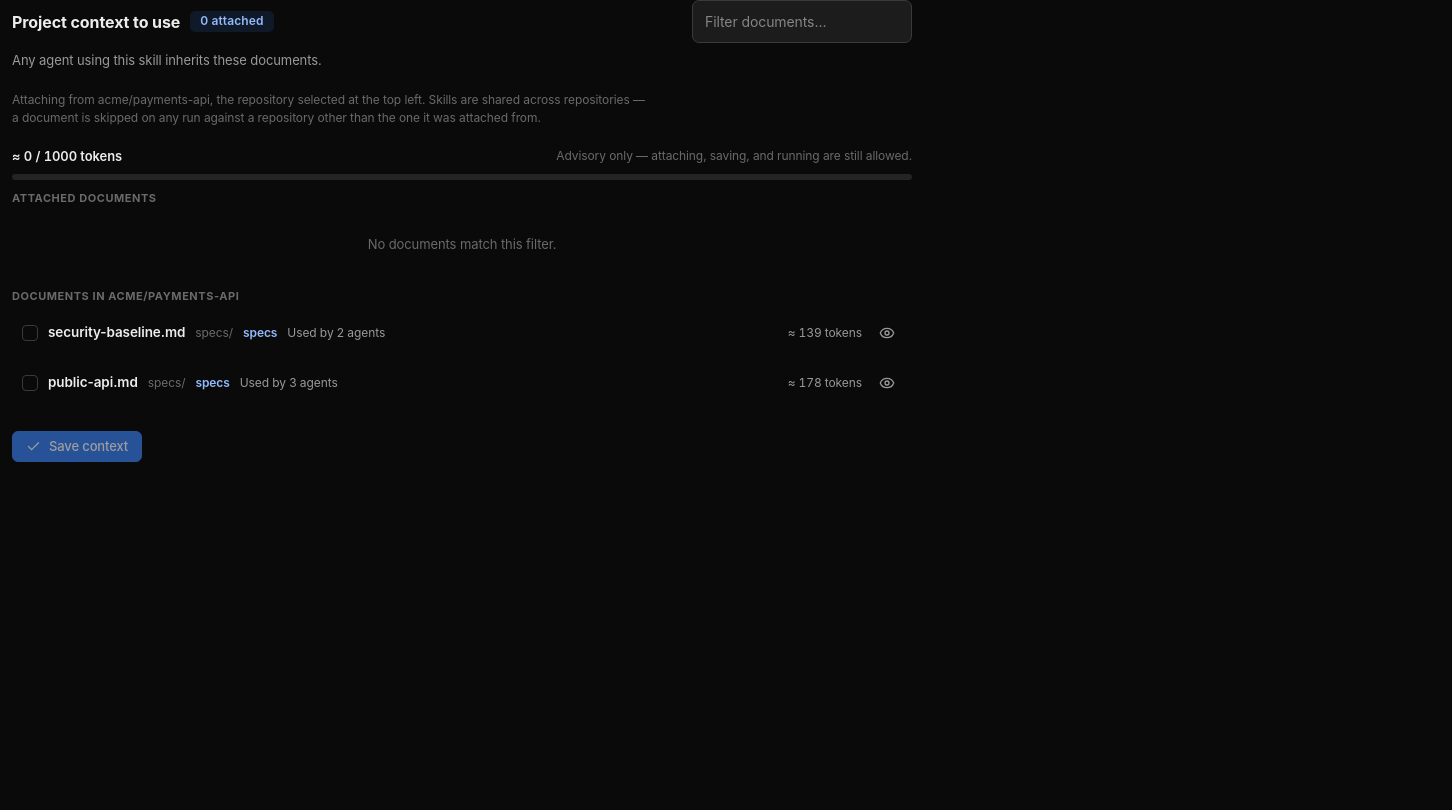
Test: ContextTab › editing the body and toggling a document issues exactly one PATCH carrying both fields (AC-42)
Click the checkbox named "security-baseline.md" at (30, 332), box x1=22 y1=324 x2=38 y2=340
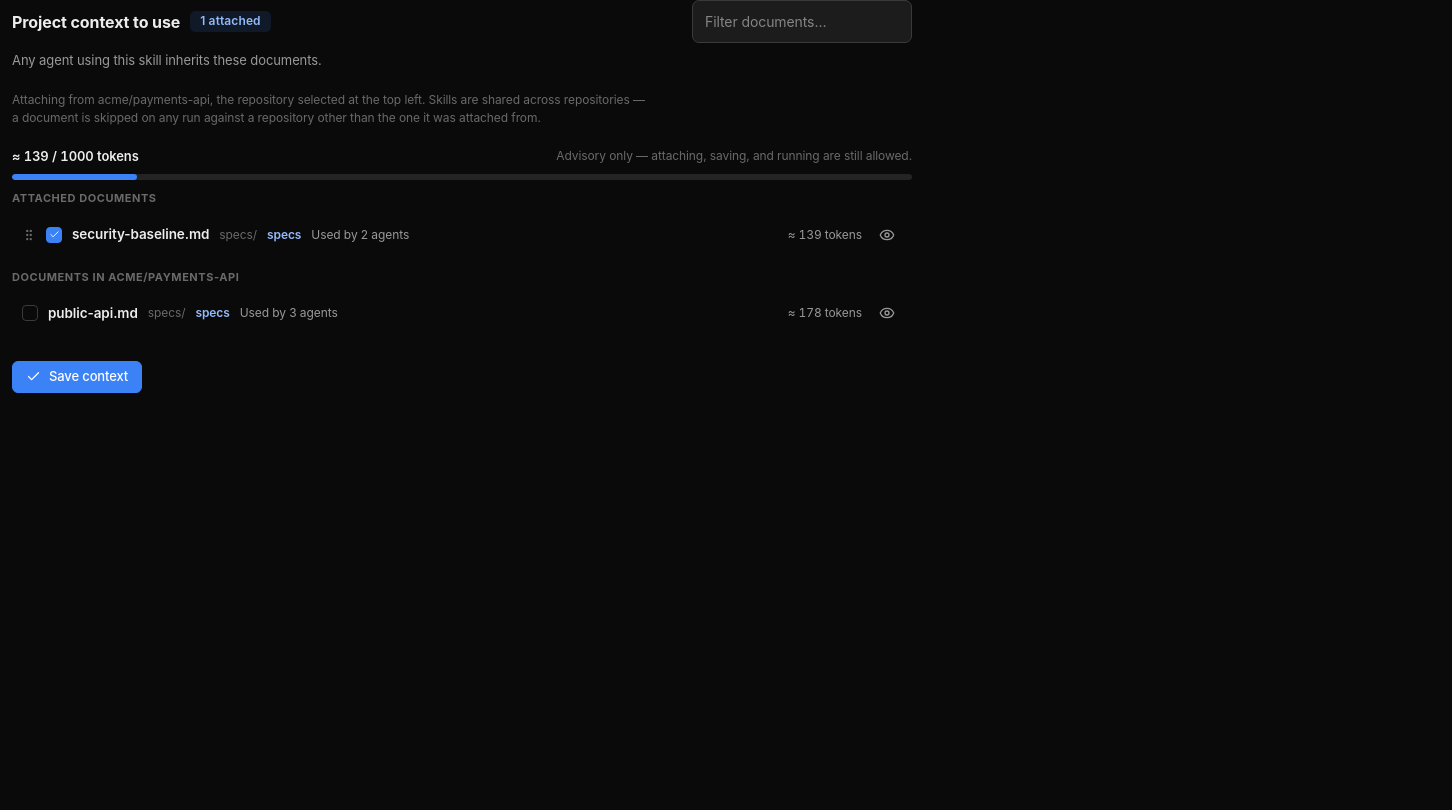
Click the button "Save context" at (77, 377), box x1=12 y1=361 x2=142 y2=393
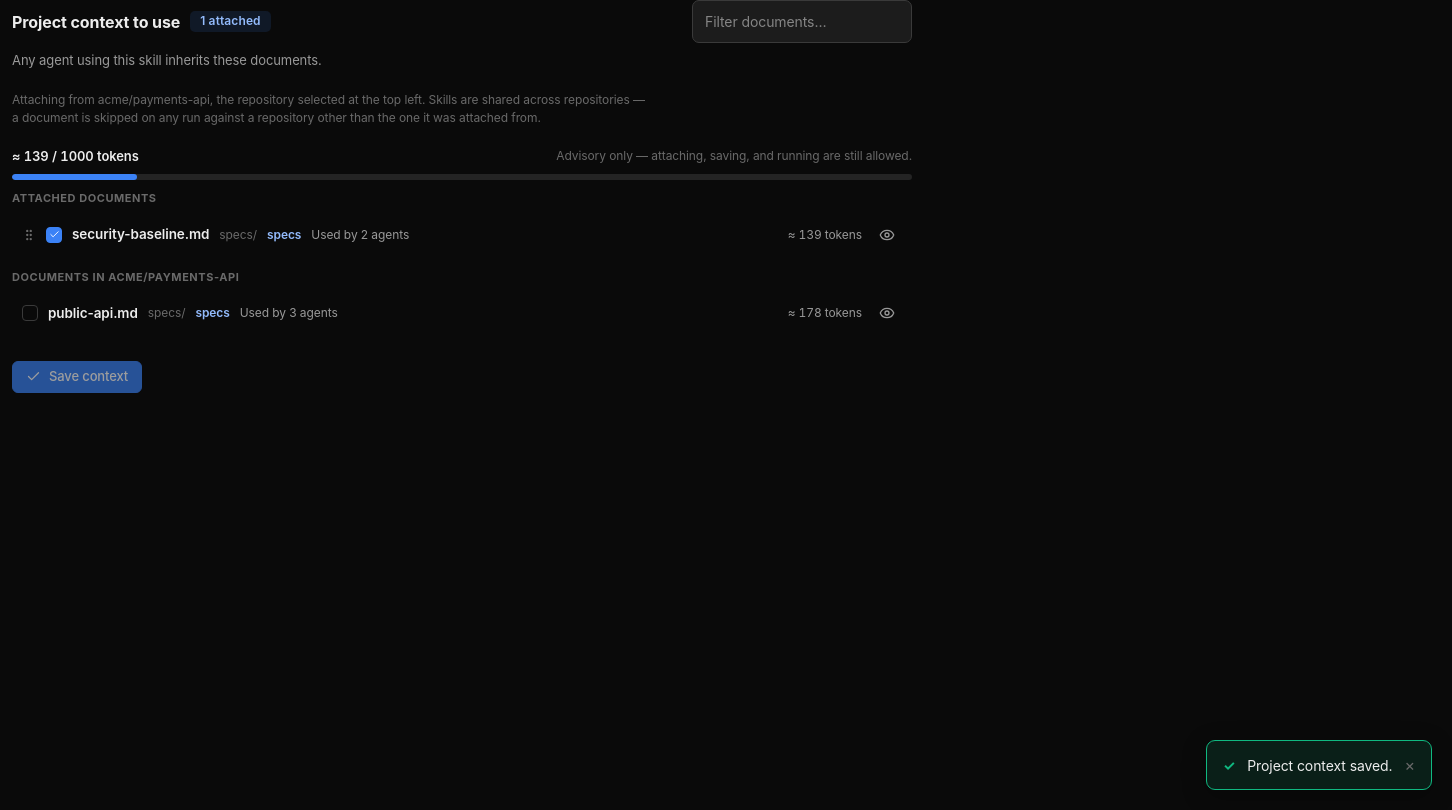
Expected: the text "Project context saved." is shown, x1=1247 y1=754 x2=1392 y2=776
